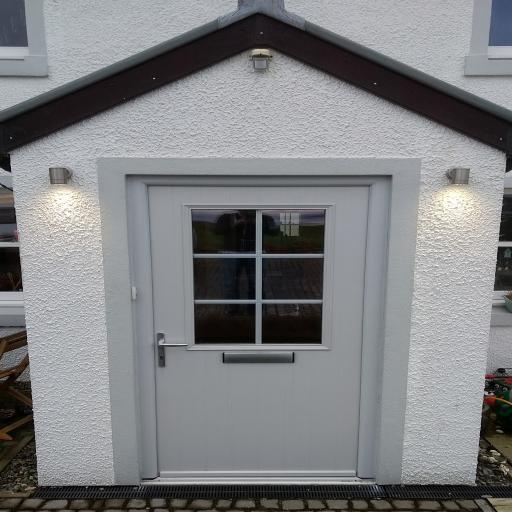Door: (148, 186, 371, 477)
